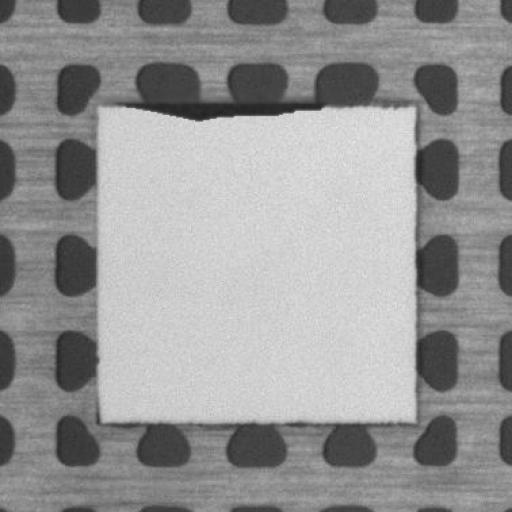DIE_BROKEN: (112, 93, 323, 126)
